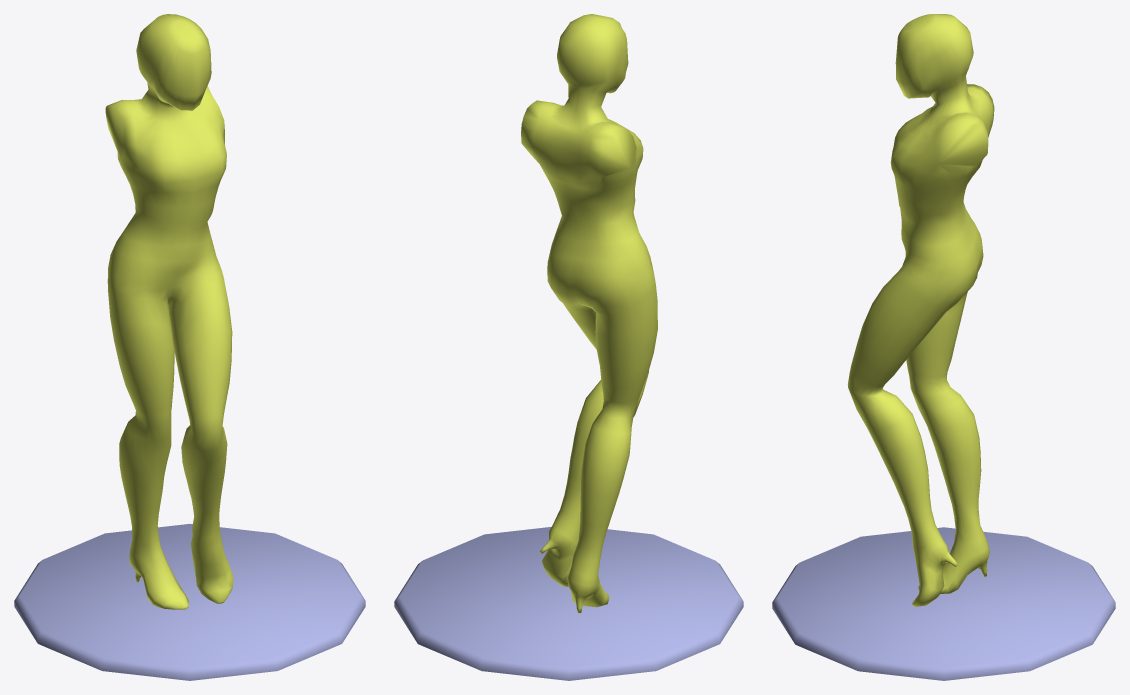
The model's file is mannequin_dress.fbx.
The picture shows the model from 3 angles, left to right: view 1: azimuth 30°, elevation 25°; view 2: azimuth 150°, elevation 25°; view 3: azimuth 270°, elevation 25°; orthographic projection. The views are drawn at different scales.
Parts seen in each view (by area): view 1: mannequin_dress; view 2: mannequin_dress; view 3: mannequin_dress.
Boxes of the visible parts, x1,y1,x2,y2 form: mannequin_dress: (14,14,365,680); mannequin_dress: (394,14,743,680); mannequin_dress: (772,14,1115,680).
Size of the model in its own units: 6.73 by 12.59 by 6.73.
